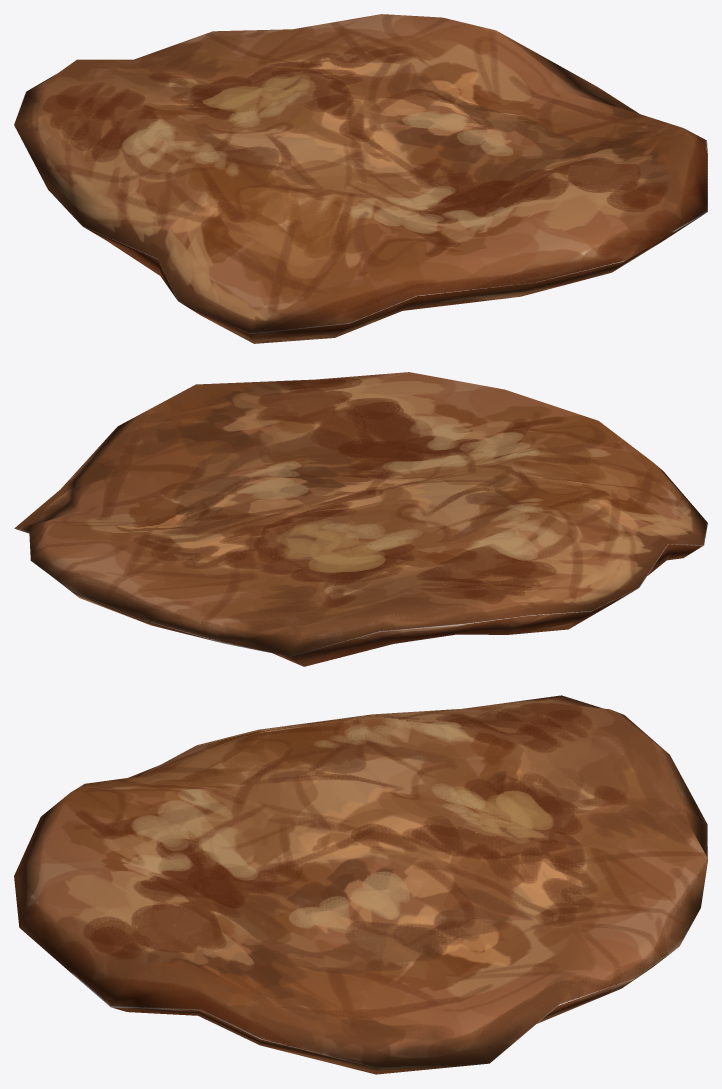
File: senbei 1.fbx
3 views of the same model, one above another, from view 1: azimuth 30°, elevation 25°; view 2: azimuth 150°, elevation 25°; view 3: azimuth 270°, elevation 25° (orthographic). The views are drawn at different scales.
Parts seen in each view (by area): view 1: pCube1; view 2: pCube1; view 3: pCube1.
Part boxes in pixels (<box>): pCube1: <box>14,14,707,343</box>; pCube1: <box>14,372,707,666</box>; pCube1: <box>14,695,707,1074</box>.
Size of the model in its own units: 0.9927 by 0.1773 by 0.9584.
